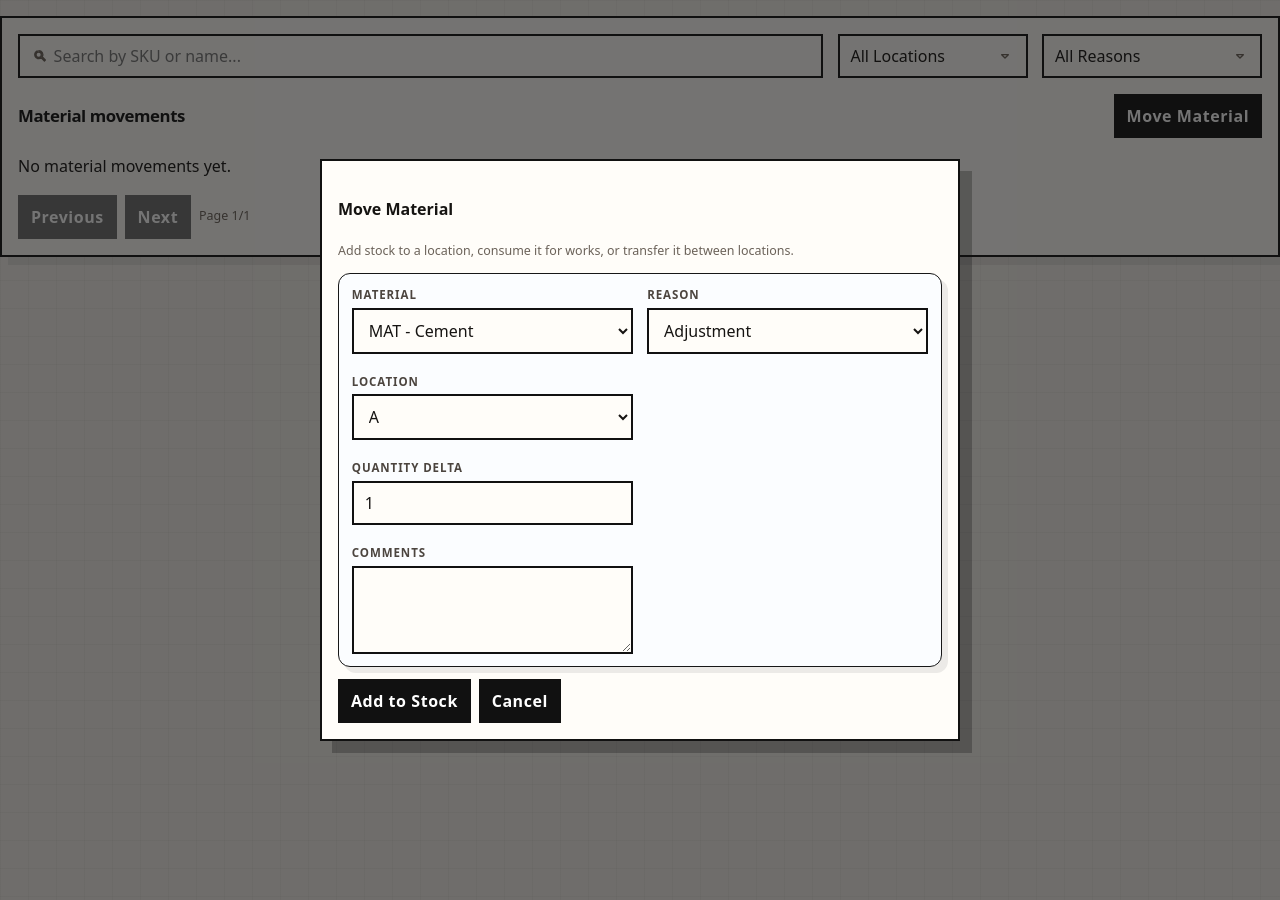
stock movement form errors › clears an old error when the form is closed and reopened
Click the button "Add to Stock". click: (404, 701)
box: x1=338 y1=679 x2=471 y2=723
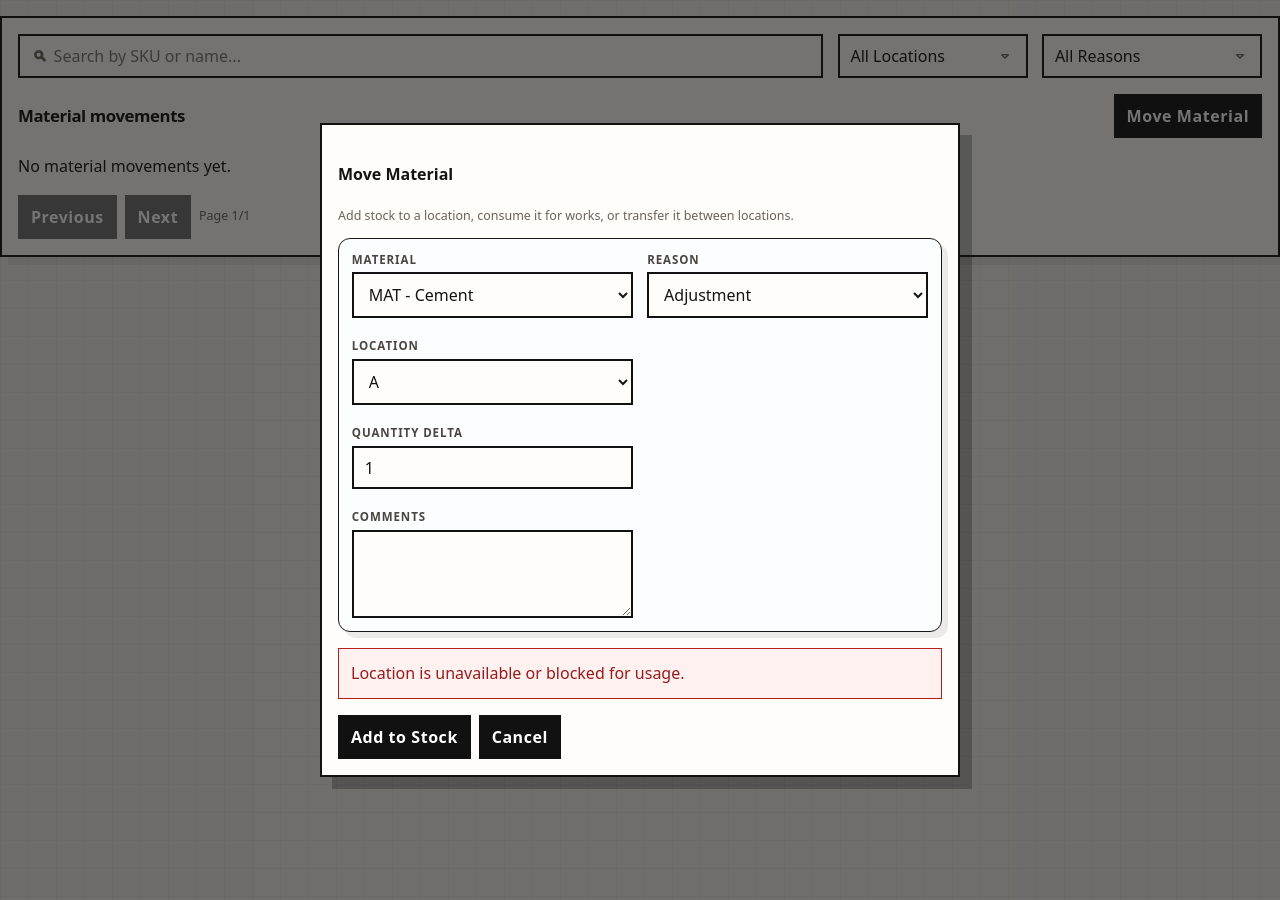
Check: the message "Location is unavailable or blocked for usage." is shown, box x1=338 y1=648 x2=942 y2=699
